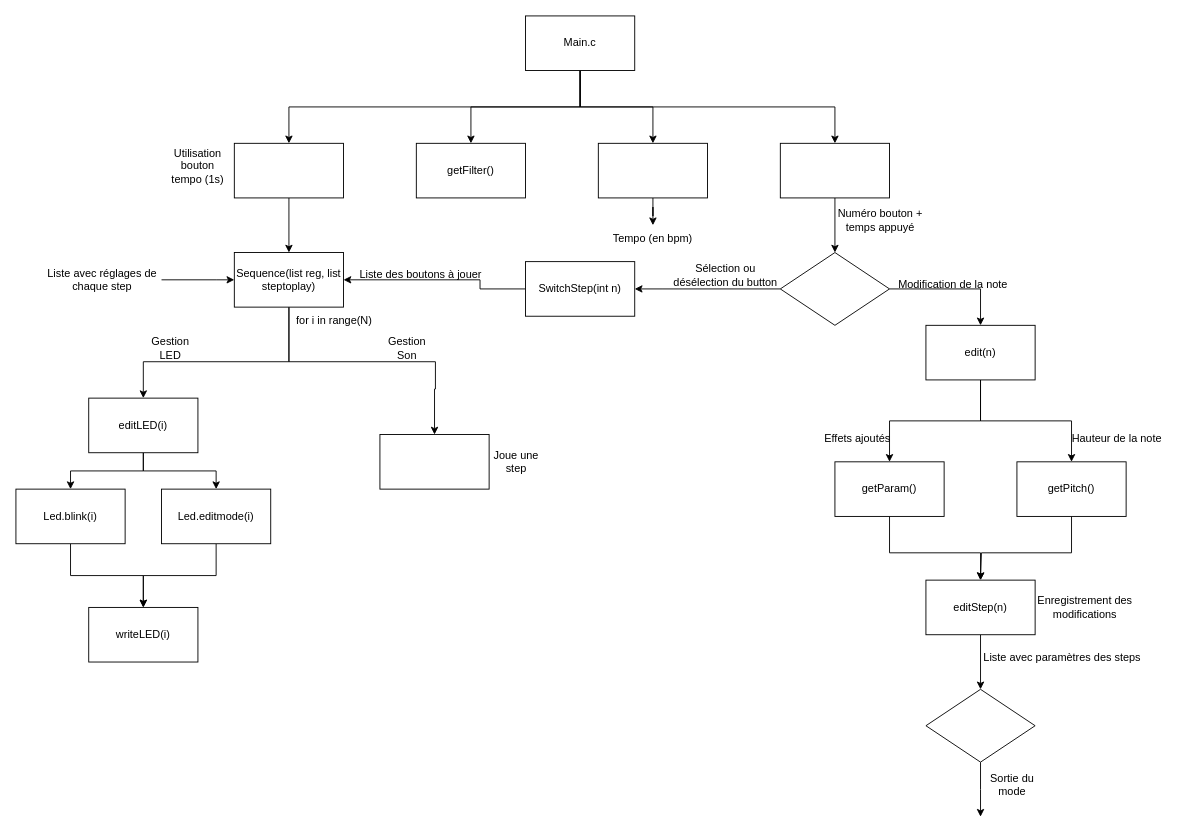
Image size: 1188x840. Some labels were removed from this diagram. Each missing label, with the box of its shape:
Button appuyé moins de 2 secondes: (779, 252, 890, 325)
getButton(int n): (779, 142, 890, 198)
Play/Pause: (233, 142, 344, 198)
PlayStep(i): (379, 434, 489, 489)
Si button appuyé plus de 2 secondes: (925, 688, 1035, 762)
tapTempo(): (597, 142, 708, 198)
